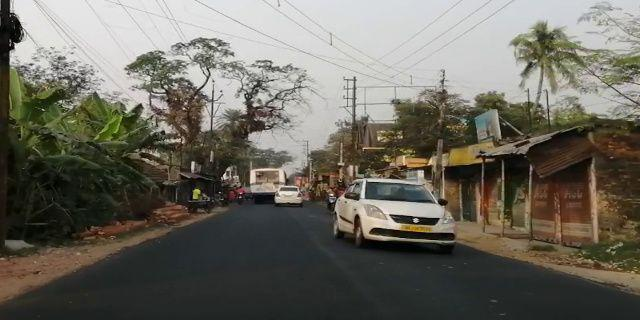Bus: (244, 165, 284, 201)
Car: (326, 172, 466, 255), (274, 182, 302, 208)
